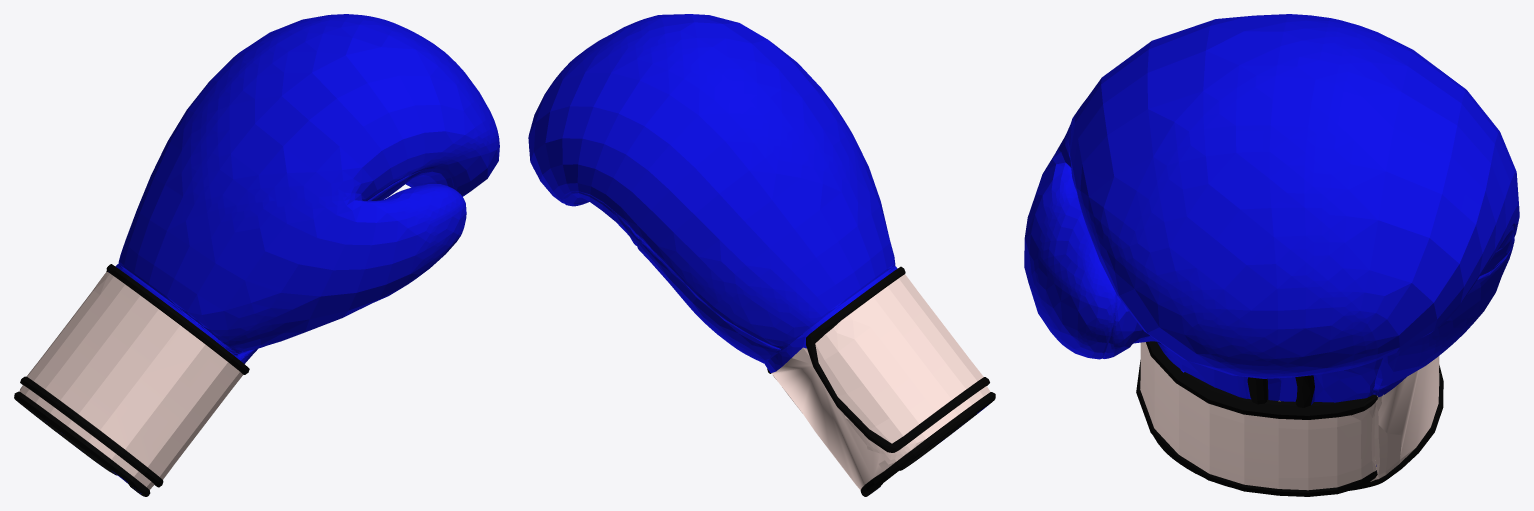
File: Blue_Left_Glove.fbx
The picture shows the model from 3 angles, left to right: view 1: azimuth 30°, elevation 25°; view 2: azimuth 150°, elevation 25°; view 3: azimuth 270°, elevation 25°; orthographic projection. The views are drawn at different scales.
Parts seen in each view (by area): view 1: 15969_Boxing_Glove_new; view 2: 15969_Boxing_Glove_new; view 3: 15969_Boxing_Glove_new.
Part boxes in pixels (bbox=[...]): 15969_Boxing_Glove_new: bbox=[14, 14, 499, 496]; 15969_Boxing_Glove_new: bbox=[528, 14, 995, 496]; 15969_Boxing_Glove_new: bbox=[1024, 14, 1519, 496].
Size of the model in its own units: 2146 by 1903 by 1369.
